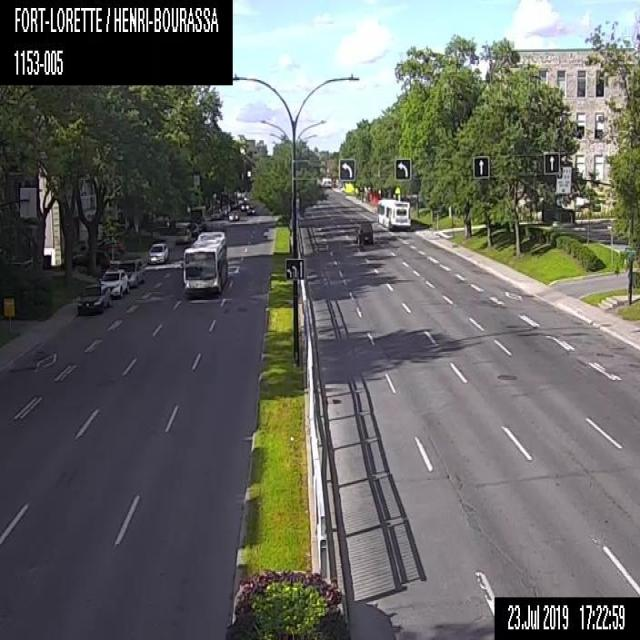bus: (182, 228, 228, 298), (375, 194, 412, 230), (322, 177, 332, 188)
vehicle: (75, 283, 109, 316), (100, 268, 130, 298), (69, 249, 109, 271), (116, 256, 146, 285), (355, 220, 374, 246), (146, 241, 166, 262), (175, 227, 191, 244), (209, 205, 221, 218), (186, 222, 198, 235), (228, 209, 239, 220), (240, 202, 250, 211), (221, 204, 229, 214), (247, 205, 254, 214)
